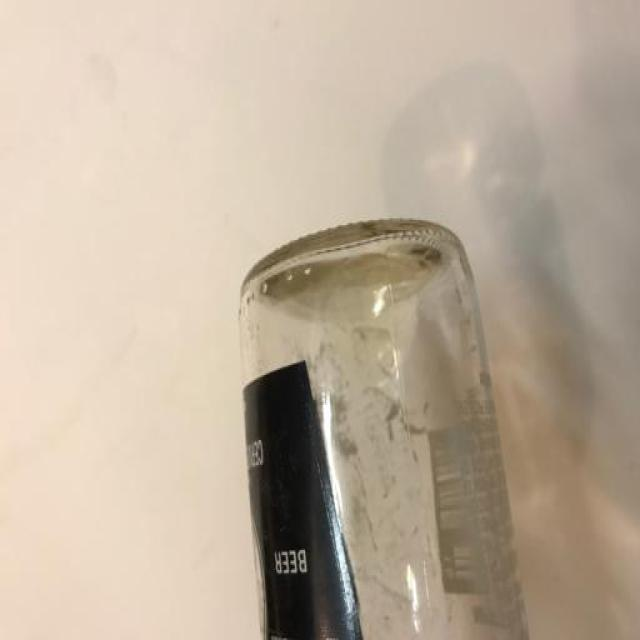Glass: (225, 193, 531, 640)
